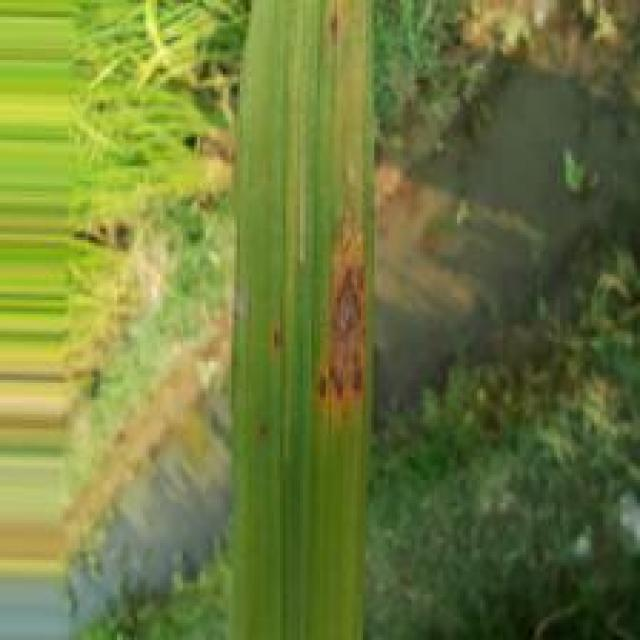Leaf_Blast: (315, 199, 377, 426)
